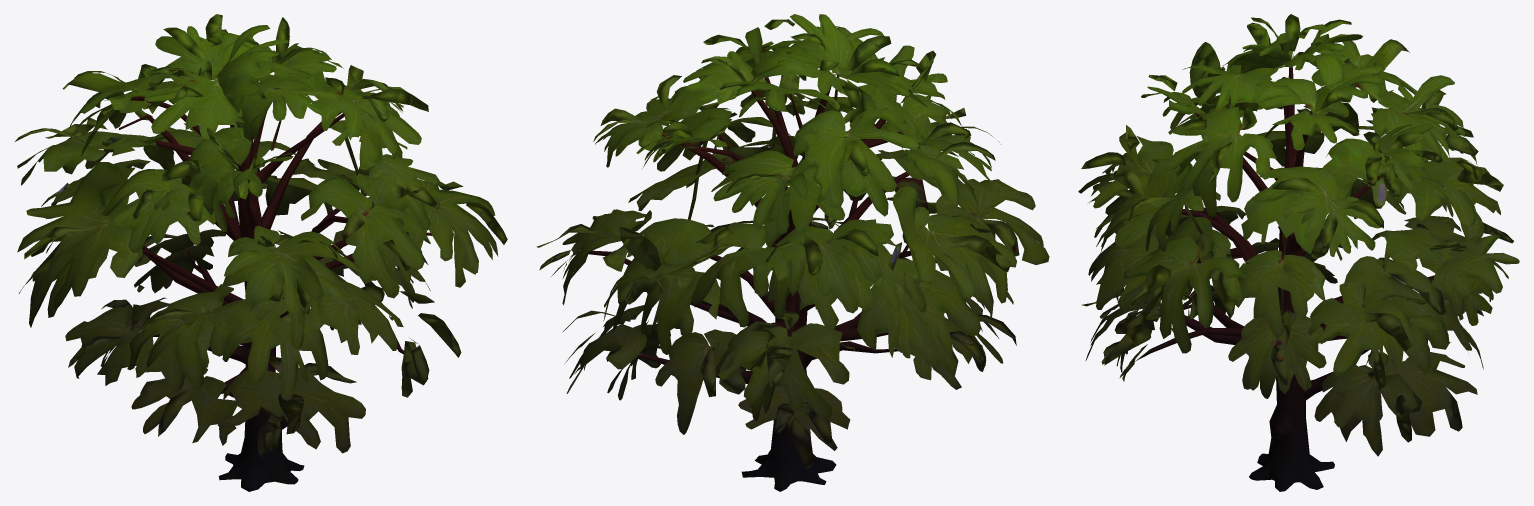
Rendered from vegetation.round-tree-01.lod0.glb.
The picture shows the model from 3 angles, left to right: view 1: azimuth 30°, elevation 25°; view 2: azimuth 150°, elevation 25°; view 3: azimuth 270°, elevation 25°; orthographic projection. The views are drawn at different scales.
Parts seen in each view (by area): view 1: vegetation.round-tree-01_LOD0_00; view 2: vegetation.round-tree-01_LOD0_00; view 3: vegetation.round-tree-01_LOD0_00.
Part boxes in pixels (<box>): vegetation.round-tree-01_LOD0_00: <box>15,14,507,491</box>; vegetation.round-tree-01_LOD0_00: <box>536,14,1049,491</box>; vegetation.round-tree-01_LOD0_00: <box>1078,14,1519,491</box>.
Size of the model in its own units: 5.95 by 6 by 5.53.
Materials: 1 (1 with a texture image).
